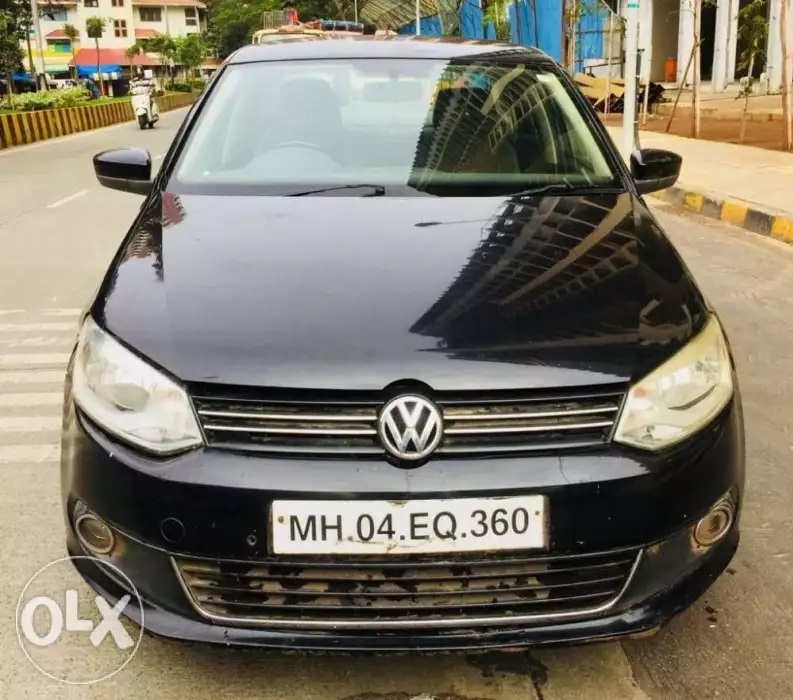licenseplate: (271, 496, 544, 553)
